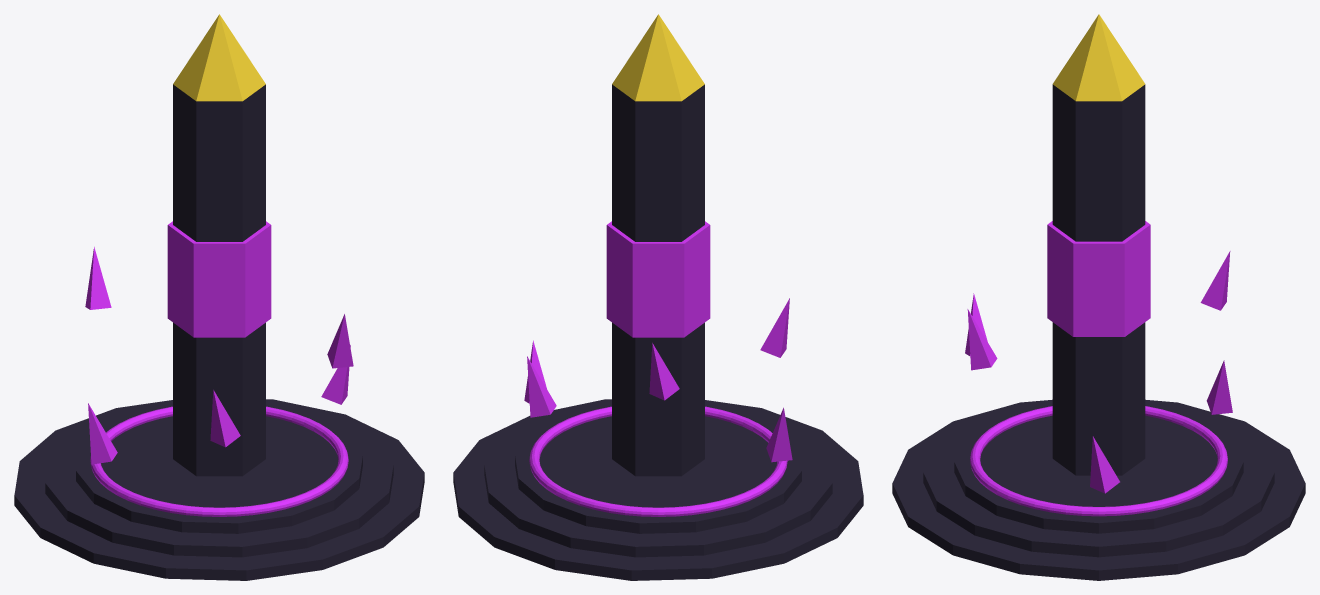
File: Torre_Rebirth_Spectacular.obj
3 views of the same model, side by side, from view 1: azimuth 30°, elevation 25°; view 2: azimuth 150°, elevation 25°; view 3: azimuth 270°, elevation 25° (orthographic).
Visible parts, largest first — view 1: Rebirth_Monolith_Spire, Rebirth_Dais_3, Rebirth_Dais_1, Rebirth_Dais_2, Spire_Amethyst_Core, Inlaid_Rune_Ring, Spire_Peak, Satellite_Crystal_4, Satellite_Crystal_5, Satellite_Crystal_3, Satellite_Crystal_6, Satellite_Crystal_1; view 2: Rebirth_Monolith_Spire, Rebirth_Dais_3, Rebirth_Dais_1, Rebirth_Dais_2, Spire_Amethyst_Core, Inlaid_Rune_Ring, Spire_Peak, Satellite_Crystal_2, Satellite_Crystal_3, Satellite_Crystal_4, Satellite_Crystal_5; view 3: Rebirth_Monolith_Spire, Rebirth_Dais_3, Rebirth_Dais_1, Rebirth_Dais_2, Spire_Amethyst_Core, Inlaid_Rune_Ring, Spire_Peak, Satellite_Crystal_6, Satellite_Crystal_1, Satellite_Crystal_2, Satellite_Crystal_3.
Part boxes in pixels (x1=…): Rebirth_Monolith_Spire: x1=173, y1=84, x2=265, y2=476; Rebirth_Dais_3: x1=76, y1=405, x2=362, y2=533; Rebirth_Dais_1: x1=14, y1=399, x2=424, y2=580; Rebirth_Dais_2: x1=45, y1=401, x2=393, y2=557; Spire_Amethyst_Core: x1=167, y1=221, x2=271, y2=337; Inlaid_Rune_Ring: x1=90, y1=406, x2=348, y2=516; Spire_Peak: x1=173, y1=14, x2=265, y2=101; Satellite_Crystal_4: x1=88, y1=403, x2=117, y2=464; Satellite_Crystal_5: x1=210, y1=390, x2=240, y2=447; Satellite_Crystal_3: x1=85, y1=247, x2=111, y2=309; Satellite_Crystal_6: x1=327, y1=314, x2=353, y2=368; Satellite_Crystal_1: x1=321, y1=345, x2=350, y2=404; Rebirth_Monolith_Spire: x1=612, y1=84, x2=704, y2=476; Rebirth_Dais_3: x1=515, y1=405, x2=801, y2=533; Rebirth_Dais_1: x1=453, y1=399, x2=863, y2=580; Rebirth_Dais_2: x1=484, y1=401, x2=832, y2=557; Spire_Amethyst_Core: x1=606, y1=221, x2=710, y2=337; Inlaid_Rune_Ring: x1=529, y1=406, x2=787, y2=516; Spire_Peak: x1=612, y1=14, x2=704, y2=101; Satellite_Crystal_2: x1=527, y1=356, x2=556, y2=417; Satellite_Crystal_3: x1=649, y1=343, x2=679, y2=400; Satellite_Crystal_4: x1=766, y1=407, x2=792, y2=462; Satellite_Crystal_5: x1=760, y1=298, x2=789, y2=357; Rebirth_Monolith_Spire: x1=1052, y1=84, x2=1145, y2=475; Rebirth_Dais_3: x1=954, y1=405, x2=1243, y2=533; Rebirth_Dais_1: x1=892, y1=399, x2=1305, y2=580; Rebirth_Dais_2: x1=923, y1=402, x2=1274, y2=557; Spire_Amethyst_Core: x1=1047, y1=221, x2=1150, y2=336; Inlaid_Rune_Ring: x1=970, y1=406, x2=1227, y2=516; Spire_Peak: x1=1053, y1=14, x2=1144, y2=101; Satellite_Crystal_6: x1=967, y1=309, x2=997, y2=370; Satellite_Crystal_1: x1=1090, y1=436, x2=1119, y2=493; Satellite_Crystal_2: x1=1206, y1=360, x2=1232, y2=414; Satellite_Crystal_3: x1=1200, y1=251, x2=1230, y2=310.
Size of the model in its own units: 16 by 20.5 by 16.
